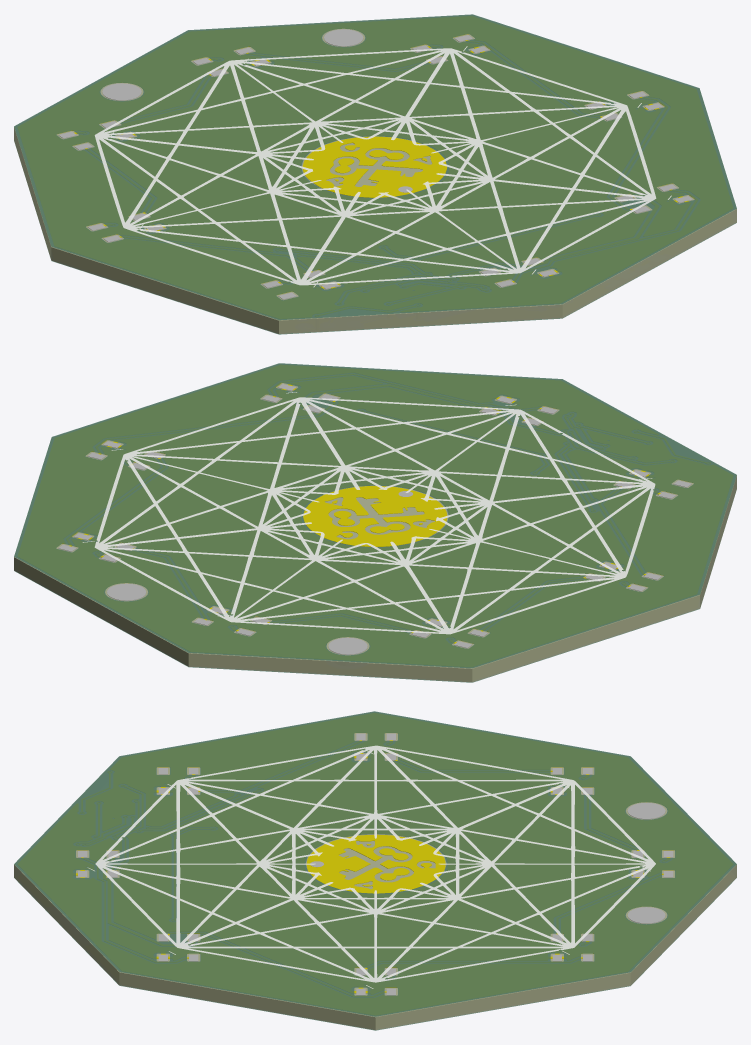
The model's file is cpv-badge.glb.
3 views of the same model, one above another, from view 1: azimuth 30°, elevation 25°; view 2: azimuth 150°, elevation 25°; view 3: azimuth 270°, elevation 25° (orthographic). The views are drawn at different scales.
Parts seen in each view (by area): view 1: =>[0:1:1:7], =>[0:1:1:2], =>[0:1:1:5], =>[0:1:1:9]; view 2: =>[0:1:1:7], =>[0:1:1:2], =>[0:1:1:5], =>[0:1:1:9]; view 3: =>[0:1:1:7], =>[0:1:1:2], =>[0:1:1:5], =>[0:1:1:9].
Part boxes in pixels (x1,y1,x2,y2): =>[0:1:1:7]: [14, 14, 736, 334]; =>[0:1:1:2]: [18, 16, 732, 318]; =>[0:1:1:5]: [94, 46, 671, 333]; =>[0:1:1:9]: [14, 15, 736, 333]; =>[0:1:1:7]: [14, 363, 736, 682]; =>[0:1:1:2]: [18, 365, 732, 666]; =>[0:1:1:5]: [82, 392, 655, 634]; =>[0:1:1:9]: [14, 364, 736, 682]; =>[0:1:1:7]: [14, 711, 736, 1030]; =>[0:1:1:2]: [18, 713, 732, 1014]; =>[0:1:1:5]: [50, 745, 655, 988]; =>[0:1:1:9]: [14, 712, 736, 1030].
Size of the model in its own units: 0.0762 by 0.00166 by 0.0762.
4 materials, 4 textured.
